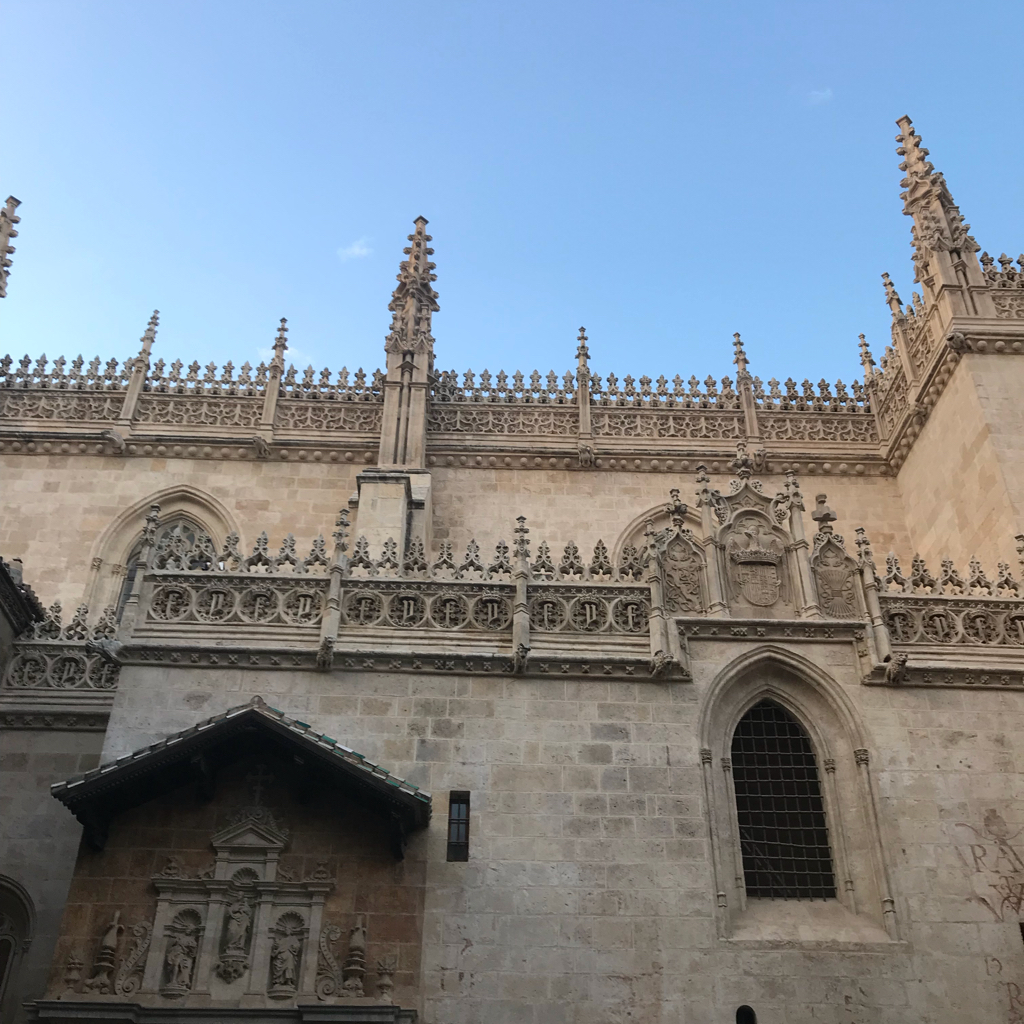arco-apuntado: (691, 644, 864, 783), (96, 484, 244, 565)
fronton: (207, 817, 285, 854)
pinaculo-gotico: (889, 109, 974, 275), (380, 205, 442, 341)
